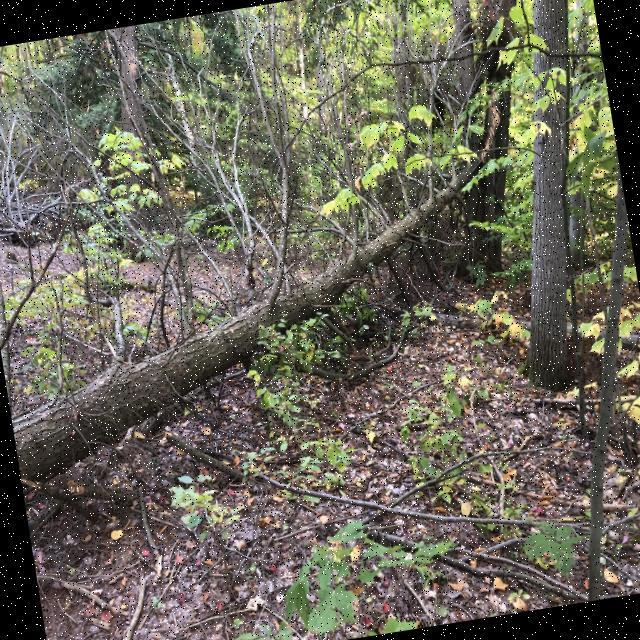fallen_object: (0, 150, 529, 495)
